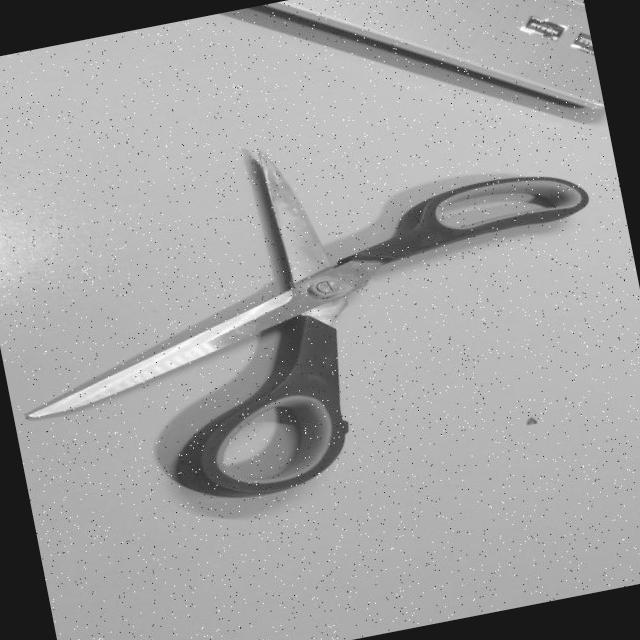scissors: (0, 87, 640, 542)
